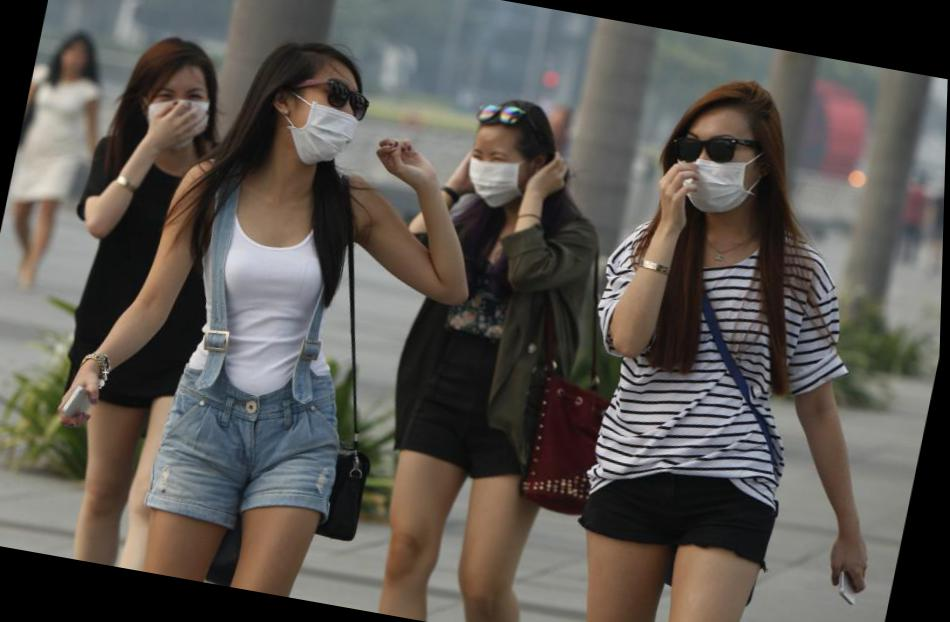OK: (668, 120, 760, 218), (460, 144, 534, 215), (142, 79, 215, 149)
WRONG: (286, 74, 368, 171)
